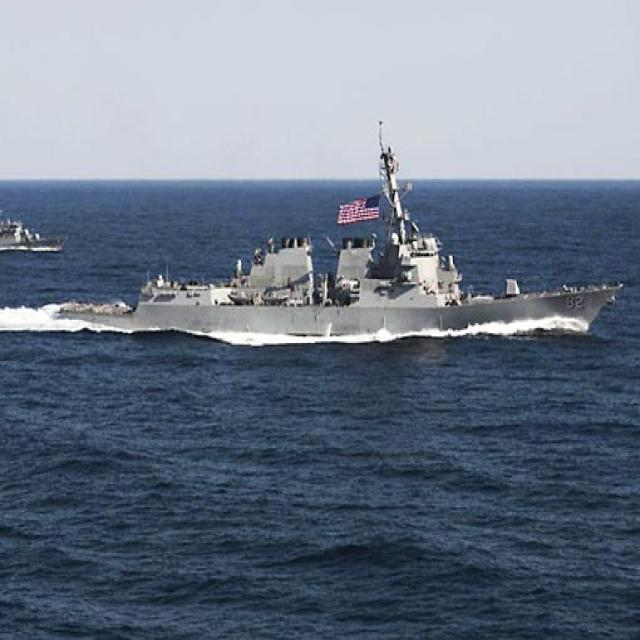navalvessels: (53, 127, 632, 360)
